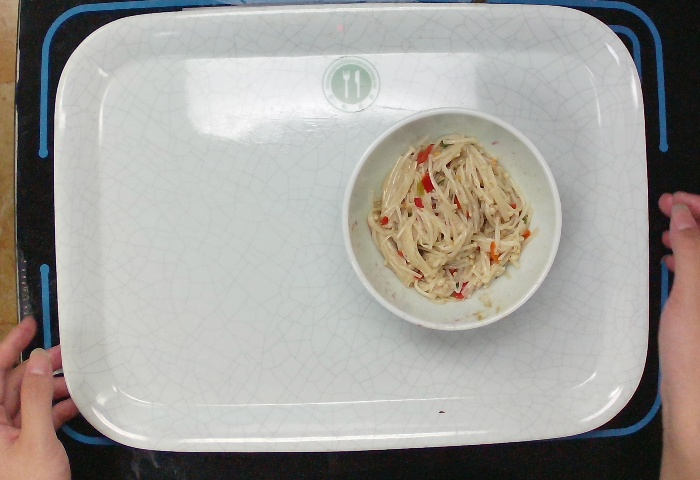JYsf-Fan_Wan: (341, 107, 564, 334)
